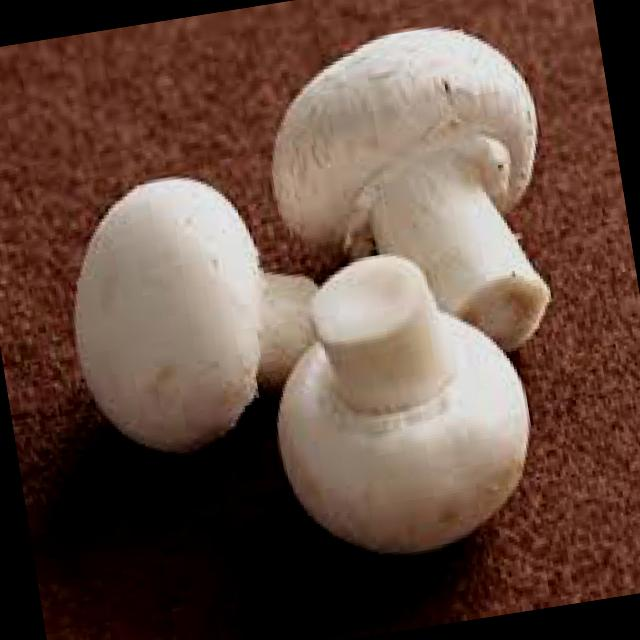Agaricus bisporus: (256, 13, 571, 385), (252, 236, 550, 572), (53, 160, 340, 462)
